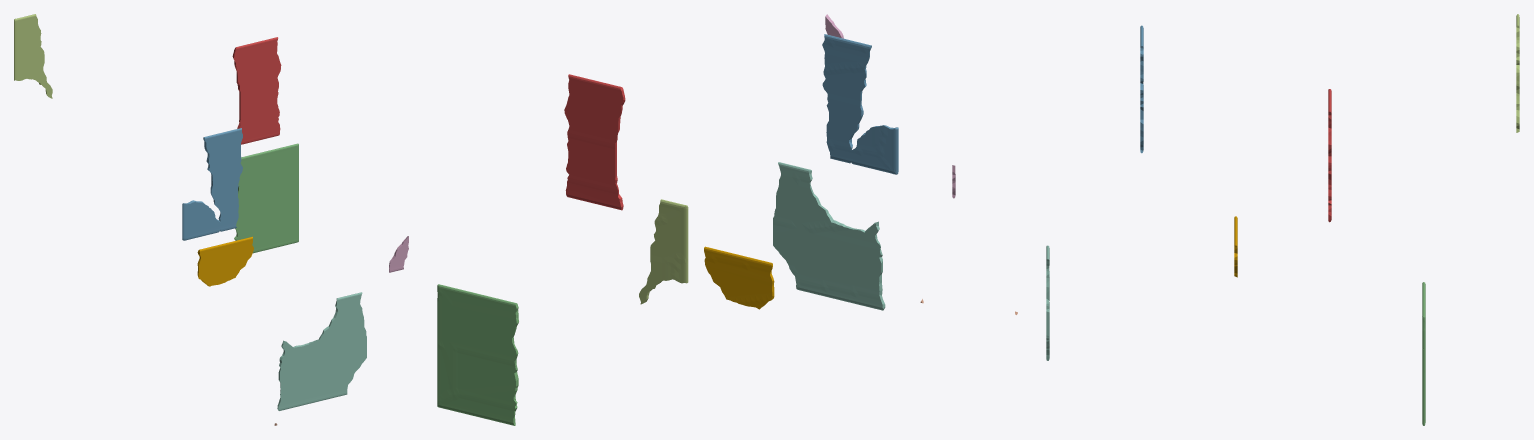
File: fractured_19_8pcs_transformed.glb
3 views of the same model, side by side, from view 1: azimuth 30°, elevation 25°; view 2: azimuth 150°, elevation 25°; view 3: azimuth 270°, elevation 25° (orthographic). The views are drawn at different scales.
Visible parts, largest first — view 1: piece_4.obj, piece_3.obj, piece_1.obj, piece_2.obj, piece_5.obj, piece_0.obj, piece_6.obj; view 2: piece_3.obj, piece_4.obj, piece_1.obj, piece_2.obj, piece_5.obj, piece_0.obj; view 3: piece_3.obj, piece_1.obj.
Boxes of the visible parts, x1=… form: piece_4.obj: x1=277, y1=292, x2=366, y2=410; piece_3.obj: x1=234, y1=143, x2=298, y2=253; piece_1.obj: x1=232, y1=37, x2=281, y2=144; piece_2.obj: x1=182, y1=128, x2=242, y2=240; piece_5.obj: x1=14, y1=14, x2=52, y2=98; piece_0.obj: x1=197, y1=236, x2=253, y2=286; piece_6.obj: x1=389, y1=236, x2=408, y2=272; piece_3.obj: x1=437, y1=284, x2=518, y2=425; piece_4.obj: x1=773, y1=162, x2=885, y2=310; piece_1.obj: x1=564, y1=74, x2=625, y2=210; piece_2.obj: x1=822, y1=34, x2=898, y2=174; piece_5.obj: x1=639, y1=199, x2=688, y2=304; piece_0.obj: x1=704, y1=246, x2=774, y2=309; piece_3.obj: x1=1422, y1=282, x2=1425, y2=425; piece_1.obj: x1=1328, y1=89, x2=1331, y2=222.
Bounding box in the file's own units: 1 × 0.9885 × 1.81.
